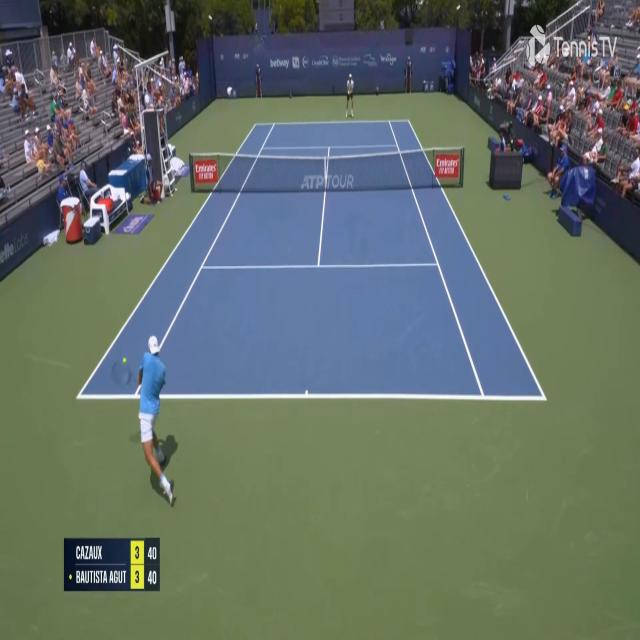tennis-player: (132, 301, 182, 508), (345, 74, 356, 119)
